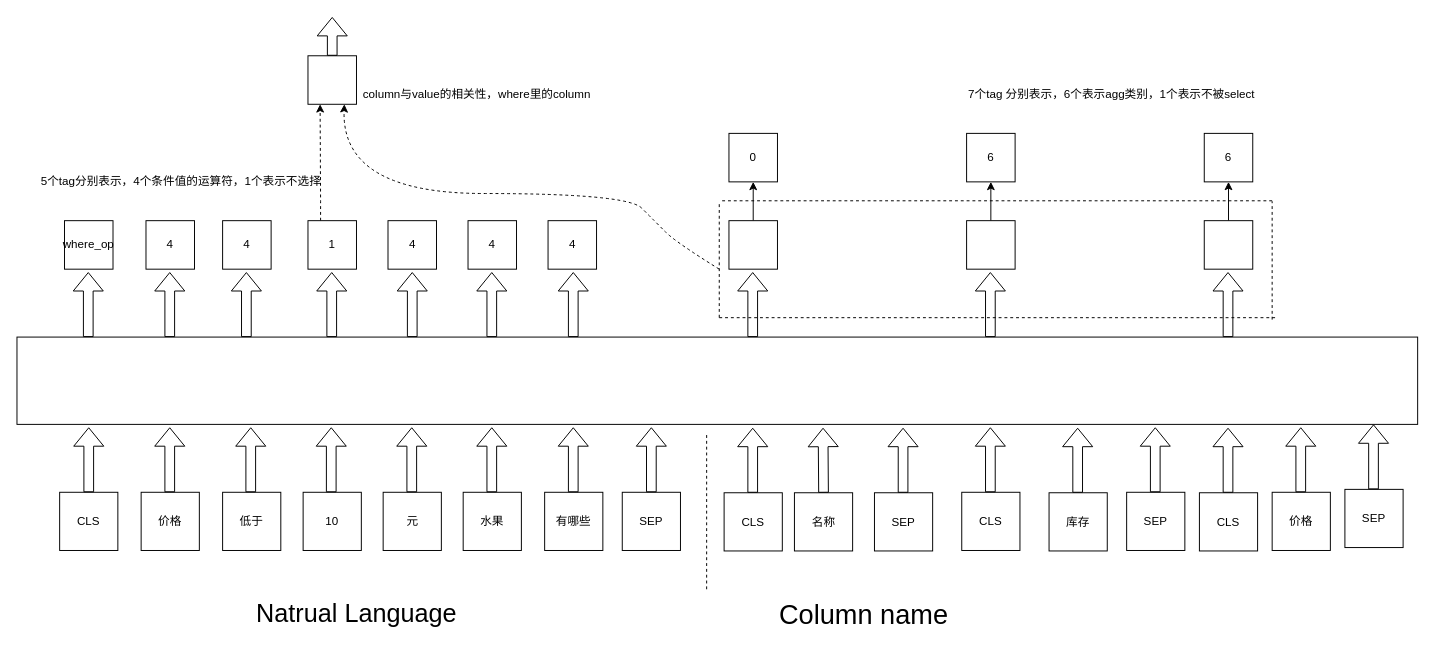
This 1435x648 diagram has some shape labels left out. The shapes that lost their labels are listed below. From the top down, each one's box as (x1, y1, x2, y2) in pixels, then its label:
(307, 55, 356, 104): Softmax
(16, 336, 1418, 424): BERT Encoder
